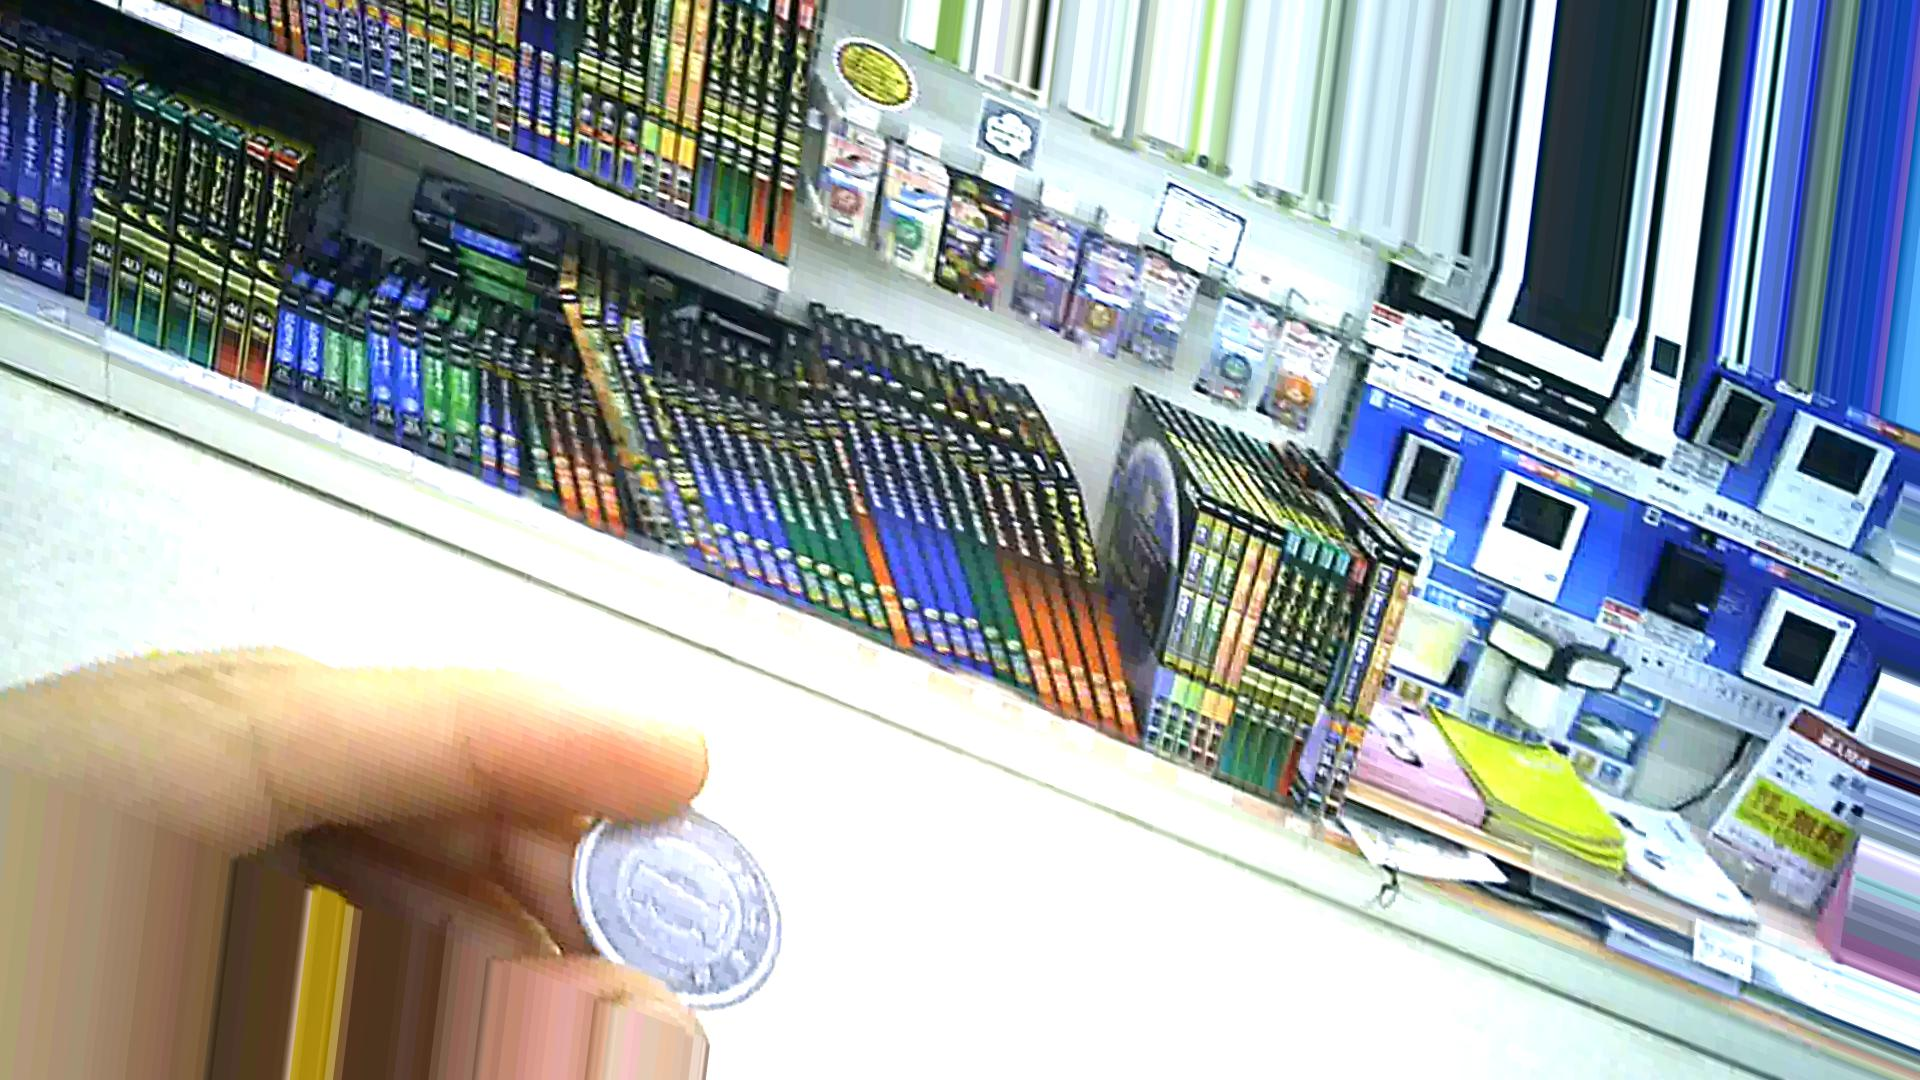1 Yen: (538, 793, 789, 1007)
